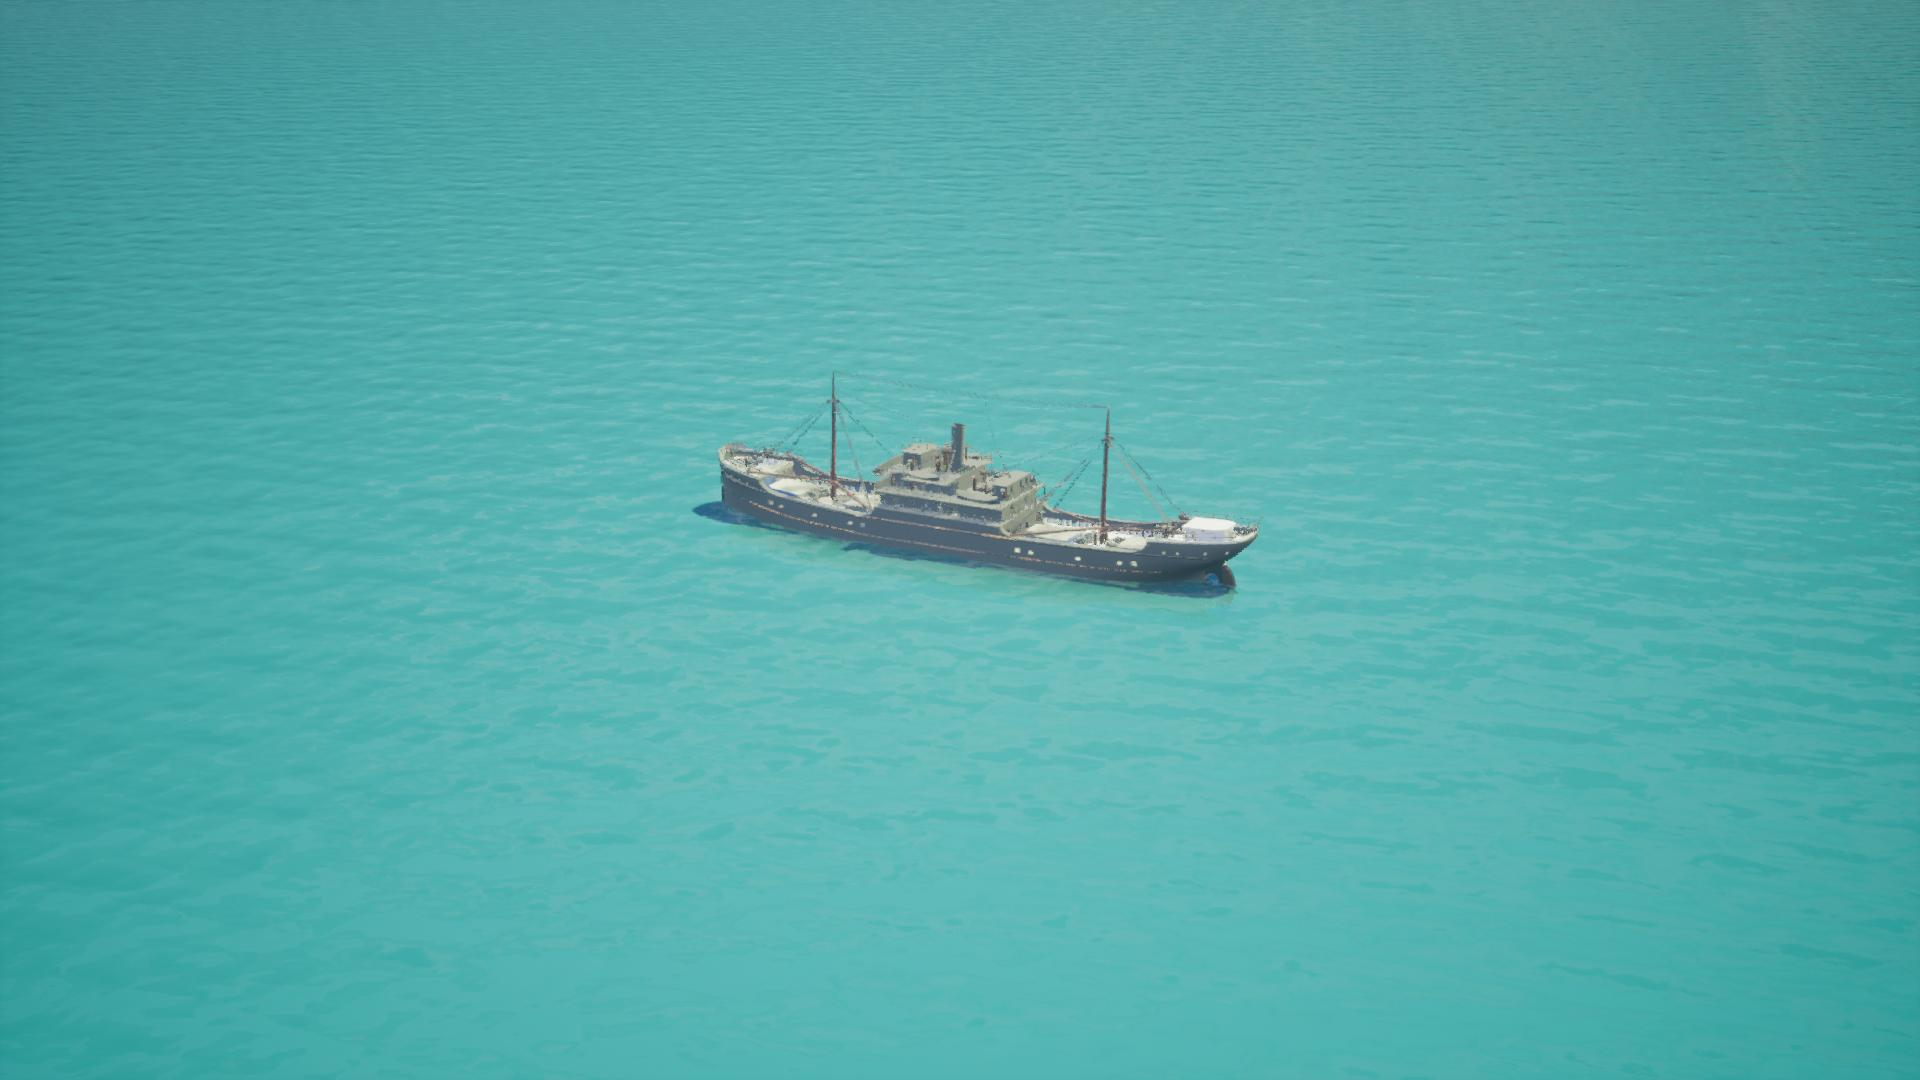Fishing Boat: (712, 397, 1250, 593)
